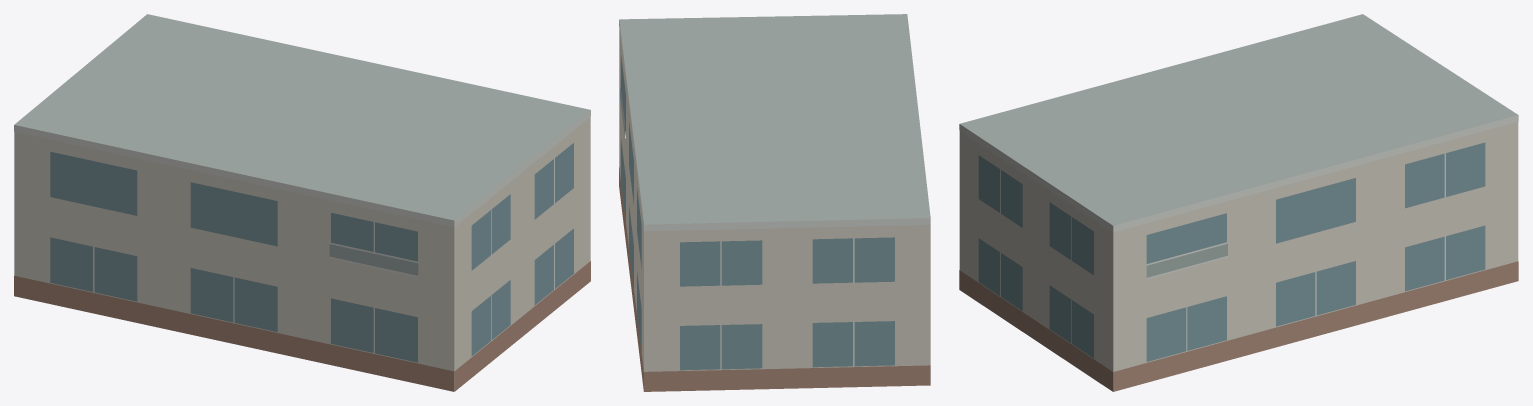
The model's file is survey-upis-32541281.glb.
3 views of the same model, side by side, from view 1: azimuth 30°, elevation 25°; view 2: azimuth 150°, elevation 25°; view 3: azimuth 270°, elevation 25° (orthographic). The views are drawn at different scales.
Parts seen in each view (by area): view 1: survey-upis-32541281.tmp; view 2: survey-upis-32541281.tmp; view 3: survey-upis-32541281.tmp.
Boxes of the visible parts, x1,y1,x2,y2 form: survey-upis-32541281.tmp: [14, 14, 590, 391]; survey-upis-32541281.tmp: [619, 14, 930, 391]; survey-upis-32541281.tmp: [959, 14, 1518, 391].
Bounding box in the file's own units: 16.69 × 6.1 × 18.62.
